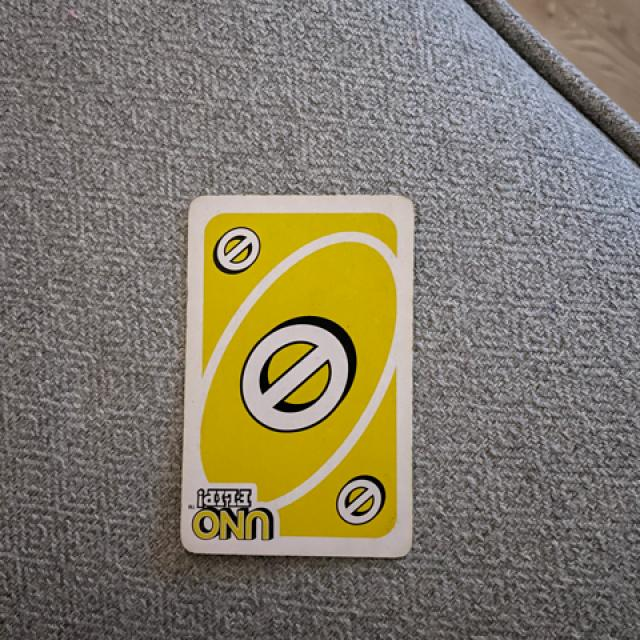lyellowskip-20: (198, 206, 274, 290)
